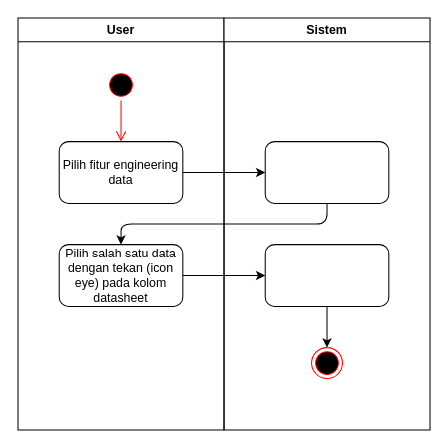
The diagram is 448 pixels wide and 448 high, and some of its shapes have lost their labels. Here are the shapes that lost their labels. From the top down, the centre of each, then its label:
At (x=326, y=172): "Membuka halaman engineering data".
At (x=326, y=275): "Membuka halaman Datasheet".
